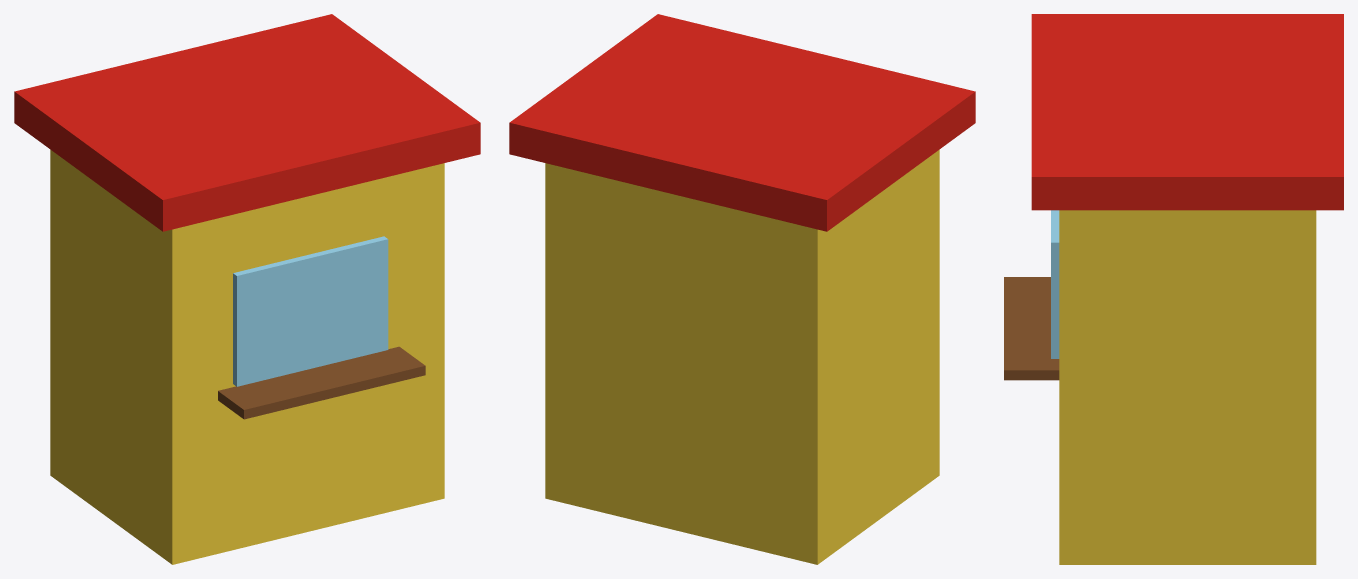
Rendered from ticket_booth.glb.
3 renders of one model, left to right at view 1: azimuth 30°, elevation 25°; view 2: azimuth 150°, elevation 25°; view 3: azimuth 270°, elevation 25°, orthographic. The views are drawn at different scales.
Parts seen in each view (by area): view 1: ticket_booth; view 2: ticket_booth; view 3: ticket_booth.
Boxes of the visible parts, x1,y1,x2,y2 form: ticket_booth: [14, 14, 480, 564]; ticket_booth: [509, 14, 975, 564]; ticket_booth: [1004, 14, 1343, 564].
Bounding box in the file's own units: 2.1 × 2.4 × 1.85.
